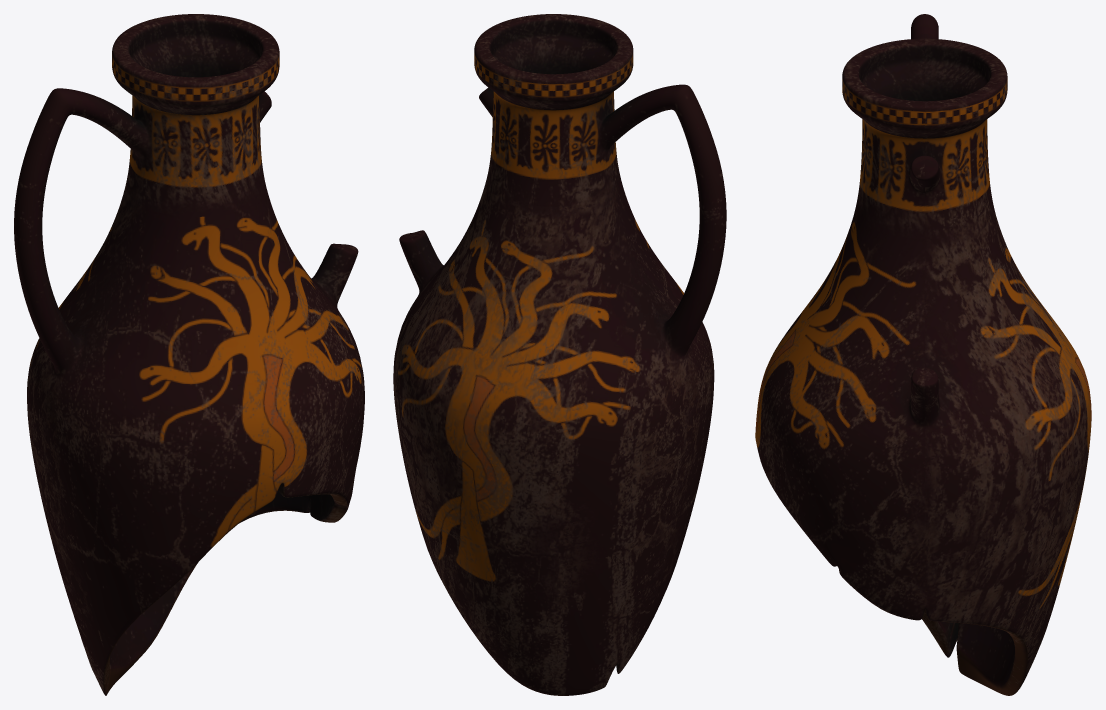
File: JarronRoto.fbx
3 views of the same model, side by side, from view 1: azimuth 30°, elevation 25°; view 2: azimuth 150°, elevation 25°; view 3: azimuth 270°, elevation 25° (orthographic). The views are drawn at different scales.
Visible parts, largest first — view 1: 20948_Broken_Amphora_v1_NEW; view 2: 20948_Broken_Amphora_v1_NEW; view 3: 20948_Broken_Amphora_v1_NEW.
Boxes of the visible parts, x1,y1,x2,y2 form: 20948_Broken_Amphora_v1_NEW: (14, 14, 364, 695); 20948_Broken_Amphora_v1_NEW: (393, 14, 726, 695); 20948_Broken_Amphora_v1_NEW: (755, 14, 1091, 695).
Size of the model in its own units: 511 by 930 by 443.
Materials: 1 (1 with a texture image).
